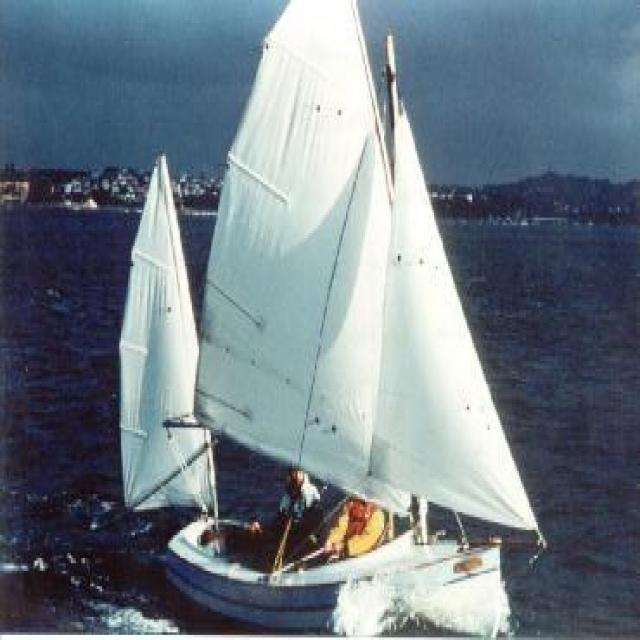Ship: (107, 1, 549, 631)
